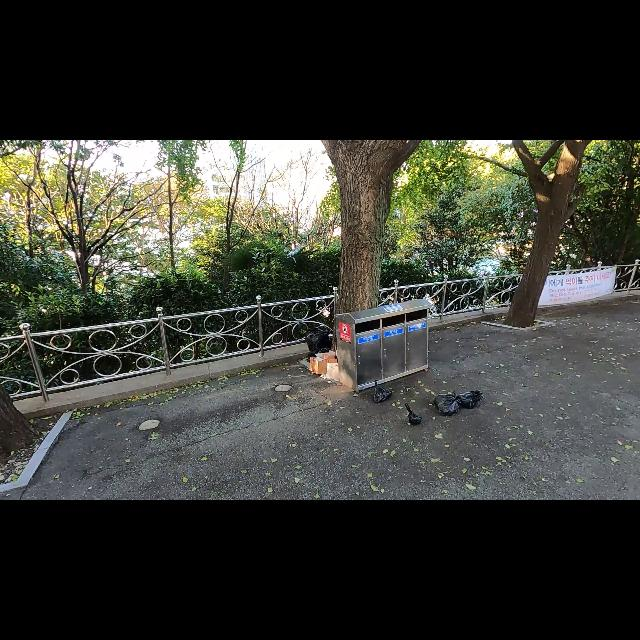trash: (433, 389, 461, 416), (304, 326, 334, 350), (308, 356, 338, 376), (456, 390, 484, 410), (371, 379, 394, 403), (404, 402, 424, 426), (326, 362, 339, 382), (314, 349, 336, 359)
